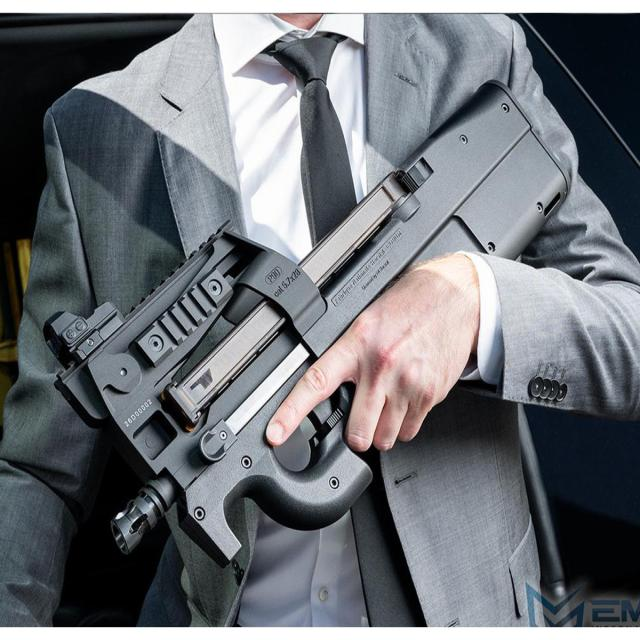SMG: (46, 81, 567, 562)
